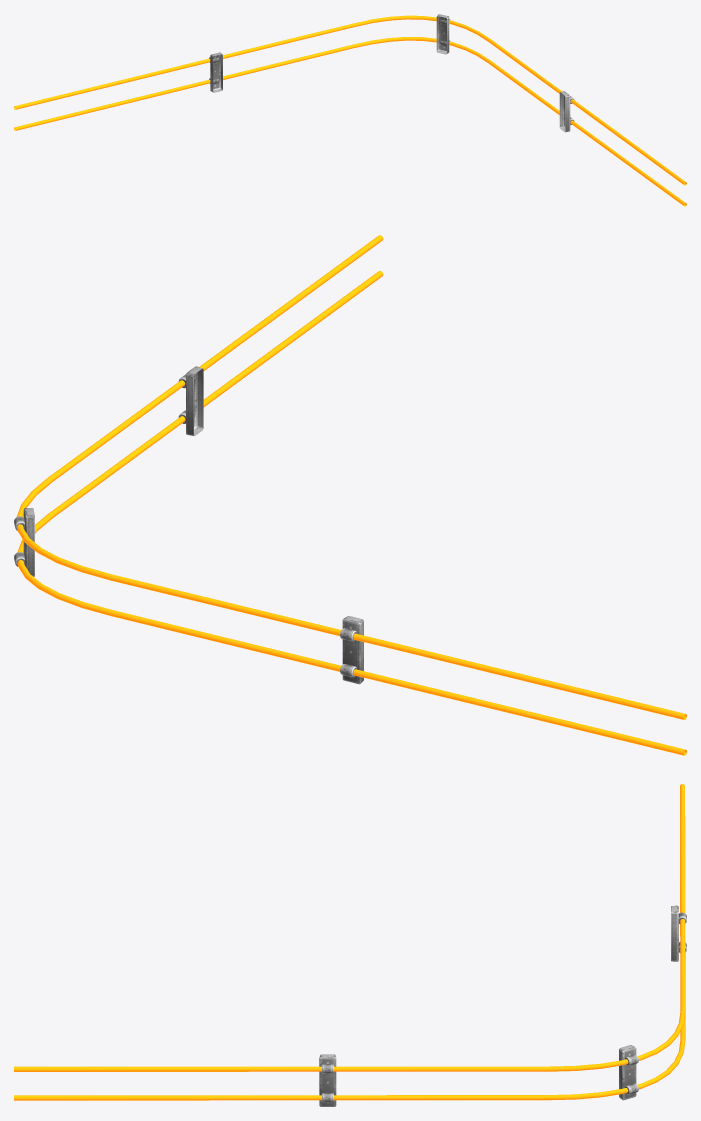
File: SM_neon_rounded_1_002.fbx
The picture shows the model from 3 angles, top to bottom: view 1: azimuth 30°, elevation 25°; view 2: azimuth 150°, elevation 25°; view 3: azimuth 270°, elevation 25°; orthographic projection. The views are drawn at different scales.
Visible parts, largest first — view 1: SM_Update_neon_rounded_1_002_v001; view 2: SM_Update_neon_rounded_1_002_v001; view 3: SM_Update_neon_rounded_1_002_v001.
Boxes of the visible parts, x1=… form: SM_Update_neon_rounded_1_002_v001: x1=14, y1=14, x2=686, y2=206; SM_Update_neon_rounded_1_002_v001: x1=14, y1=235, x2=686, y2=755; SM_Update_neon_rounded_1_002_v001: x1=14, y1=784, x2=686, y2=1106.
Bounding box in the file's own units: 3.22 × 0.264 × 3.22.
1 material, 1 textured.
